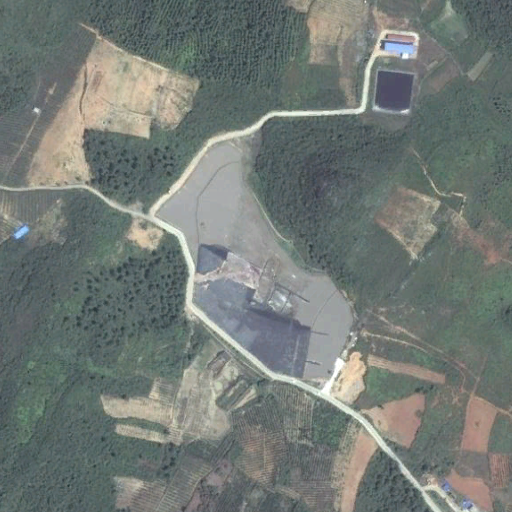lf: (155, 136, 354, 388)
